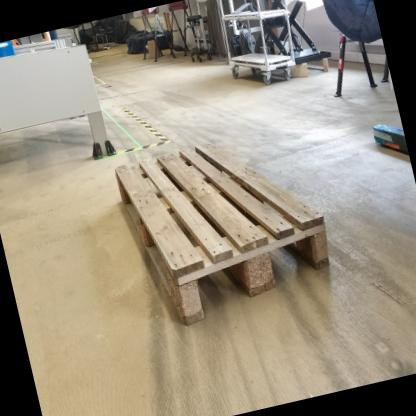BoxFace: (111, 134, 336, 335)
